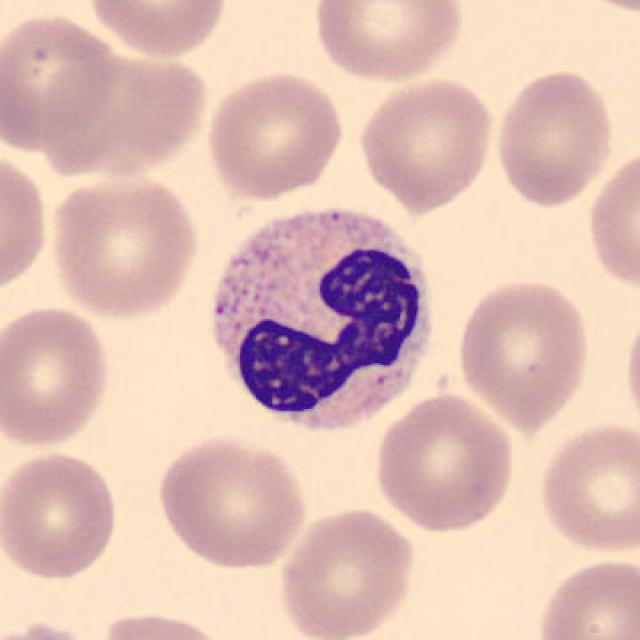Neutrophil: (195, 190, 442, 444)
RBC: (34, 43, 210, 184), (44, 168, 201, 322), (453, 273, 594, 430), (153, 432, 309, 571), (372, 390, 518, 534), (354, 72, 498, 212), (274, 502, 419, 640), (202, 67, 346, 201), (491, 65, 617, 210), (0, 8, 121, 158), (0, 302, 116, 452), (0, 448, 123, 584), (534, 418, 638, 557), (310, 0, 468, 85), (531, 553, 638, 640), (84, 0, 231, 60), (0, 143, 52, 303), (583, 143, 638, 294), (96, 608, 233, 640), (620, 300, 640, 440), (1, 619, 100, 640), (563, 0, 640, 16)
